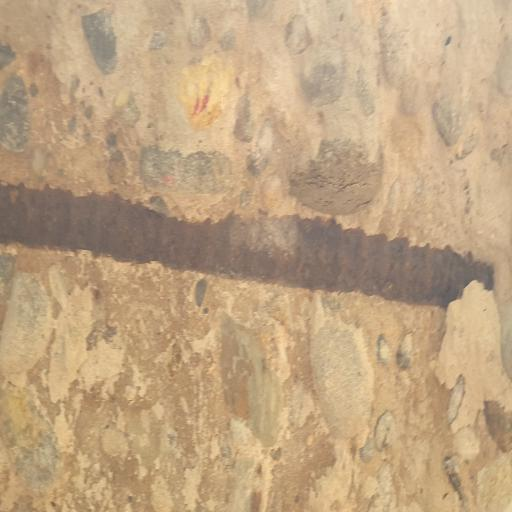exposed_rebar: (0, 183, 493, 308)
